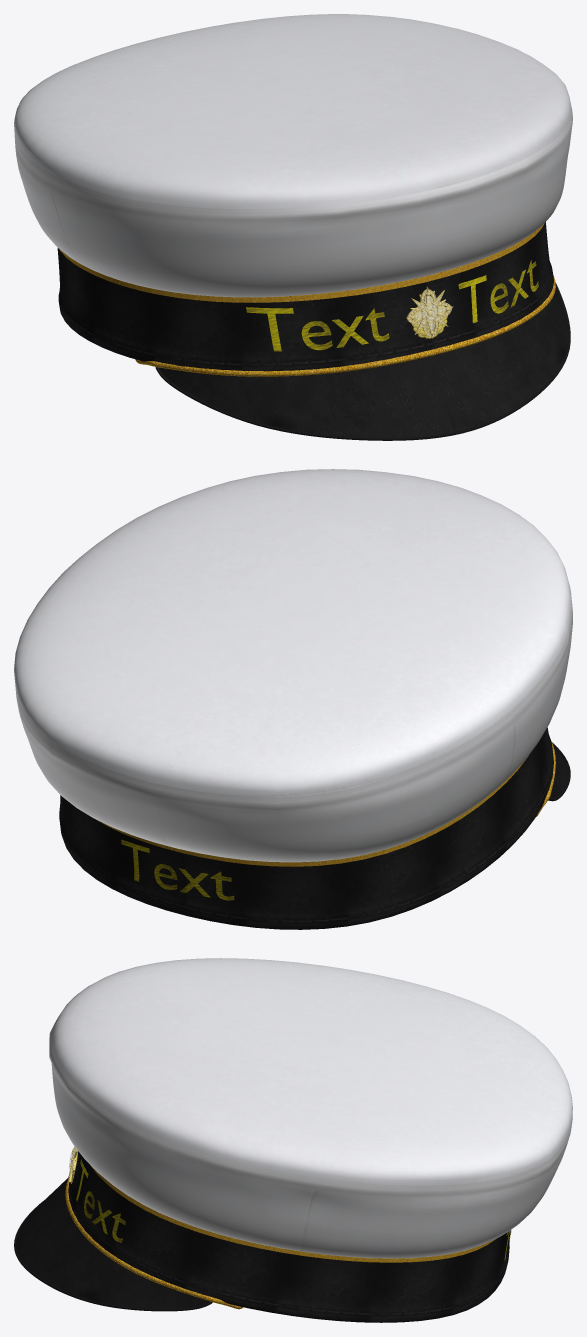
Rendered from cap_version_11-transformed.glb.
3 views of the same model, one above another, from view 1: azimuth 30°, elevation 25°; view 2: azimuth 150°, elevation 25°; view 3: azimuth 270°, elevation 25° (orthographic). The views are drawn at different scales.
Visible parts, largest first — view 1: the top of the cap, the middle part, the fornt part, gold.001, gold, Retopo_Text, cap line 1, Retopo_Text.001, Plane, badge 3; view 2: the top of the cap, the middle part, gold.001, Retopo_Text.002, the fornt part; view 3: the top of the cap, the middle part, the fornt part, gold.001, gold, cap line 1, Retopo_Text.001.
Part boxes in pixels (box(x1,y1,x2,y2)): the top of the cap: box(14, 14, 572, 297); the middle part: box(57, 222, 553, 371); the fornt part: box(159, 287, 569, 437); gold.001: box(59, 223, 544, 302); gold: box(135, 275, 555, 376); Retopo_Text: box(246, 307, 389, 351); cap line 1: box(155, 283, 570, 440); Retopo_Text.001: box(458, 260, 538, 323); Plane: box(407, 289, 452, 337); badge 3: box(406, 286, 452, 338); the top of the cap: box(14, 469, 572, 862); the middle part: box(59, 727, 553, 929); gold.001: box(97, 755, 528, 866); Retopo_Text.002: box(121, 839, 234, 900); the fornt part: box(550, 742, 569, 798); the top of the cap: box(49, 958, 572, 1258); the middle part: box(68, 1151, 510, 1322); the fornt part: box(16, 1177, 209, 1308); gold.001: box(90, 1165, 496, 1262); gold: box(65, 1179, 242, 1309); cap line 1: box(14, 1200, 212, 1311); Retopo_Text.001: box(76, 1159, 125, 1242).
Size of the model in its own units: 1.76 by 0.9352 by 2.04.
Materials: 17 (12 with a texture image).
